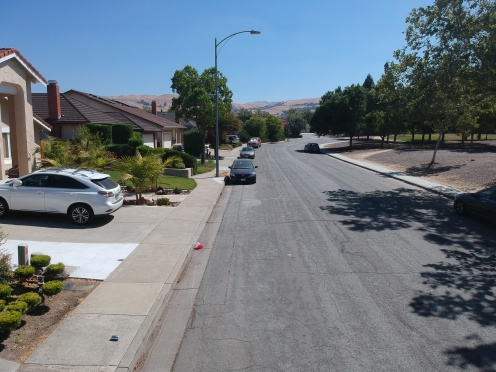can: (107, 332, 122, 343)
plastic bag: (189, 238, 211, 252)
